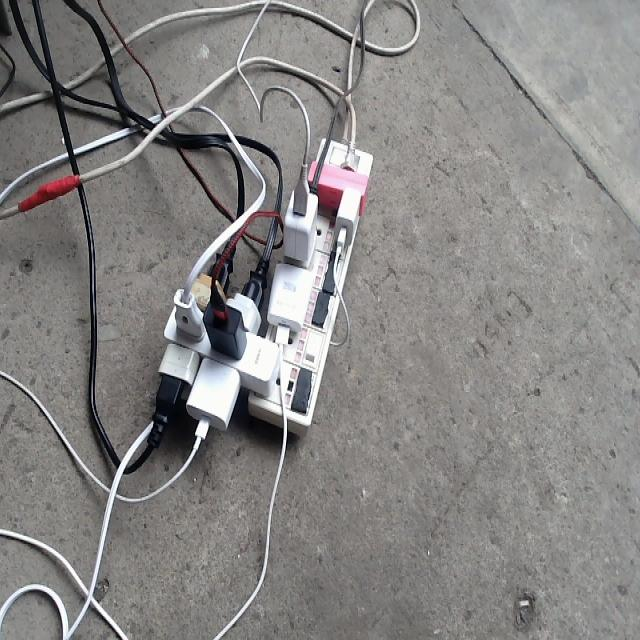-: (156, 136, 372, 435)
